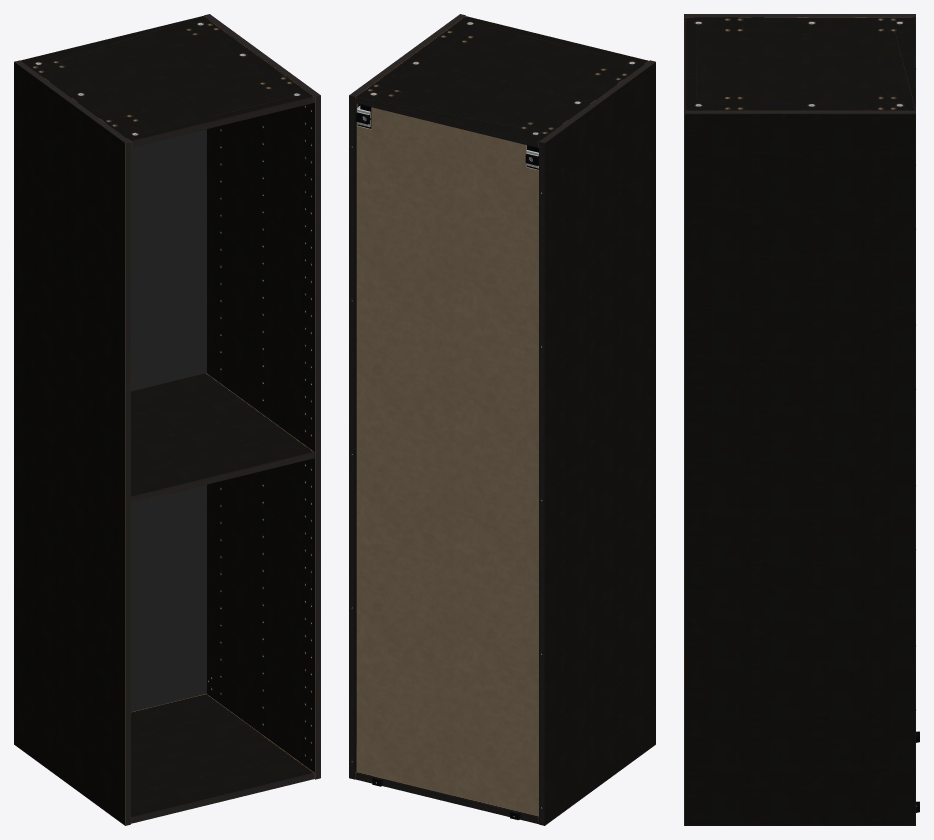
The model's file is metod_szafka_wysoka_70591693.glb.
3 renders of one model, left to right at view 1: azimuth 30°, elevation 25°; view 2: azimuth 150°, elevation 25°; view 3: azimuth 270°, elevation 25°, orthographic. The views are drawn at different scales.
Parts seen in each view (by area): view 1: metod_szafka_wysoka_70591693; view 2: metod_szafka_wysoka_70591693; view 3: metod_szafka_wysoka_70591693.
Part boxes in pixels (x1=…): metod_szafka_wysoka_70591693: x1=14, y1=14, x2=320, y2=825; metod_szafka_wysoka_70591693: x1=349, y1=14, x2=655, y2=825; metod_szafka_wysoka_70591693: x1=684, y1=14, x2=919, y2=825.
Bounding box in the file's own units: 0.6 × 2 × 0.6.
1 material, 1 textured.
